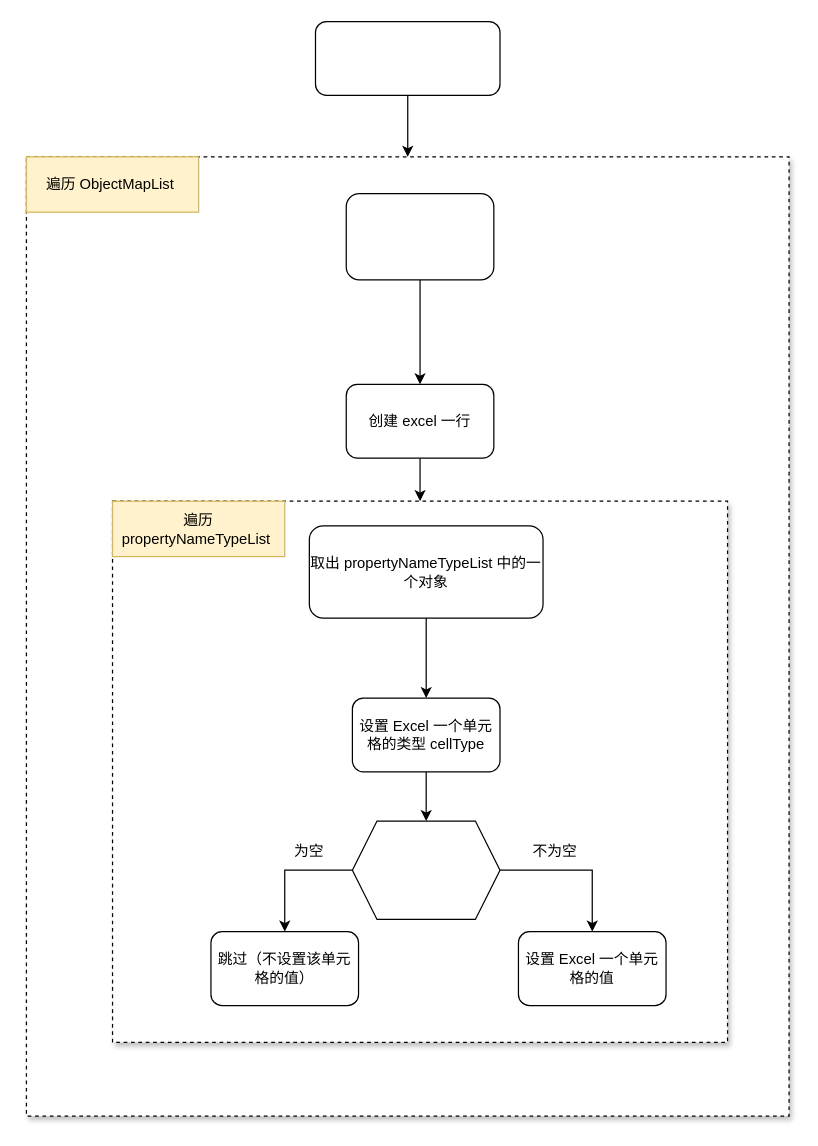
This 818x1146 diagram has some shape labels left out. The shapes that lost their labels are listed below. From the top down, each one's centre as x and y in pixels, then its label:
At [407,57]: "遍历 titleList，构造标题".
At [419,236]: "取出 ObjectMapList 中的一个".
At [425,869]: "对象的字段值 是否为空".
